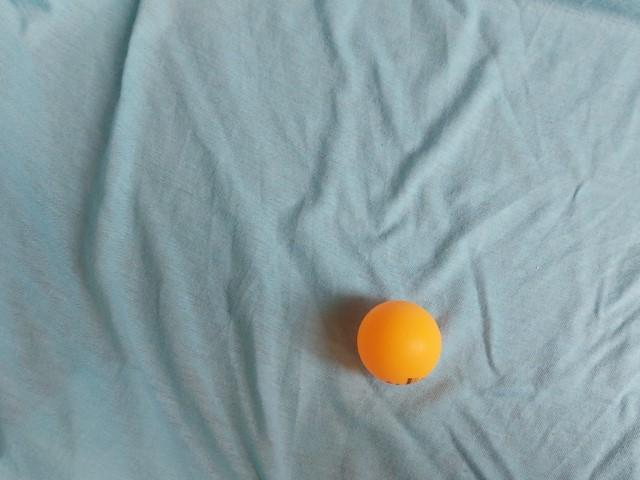oball: (351, 295, 449, 392)
